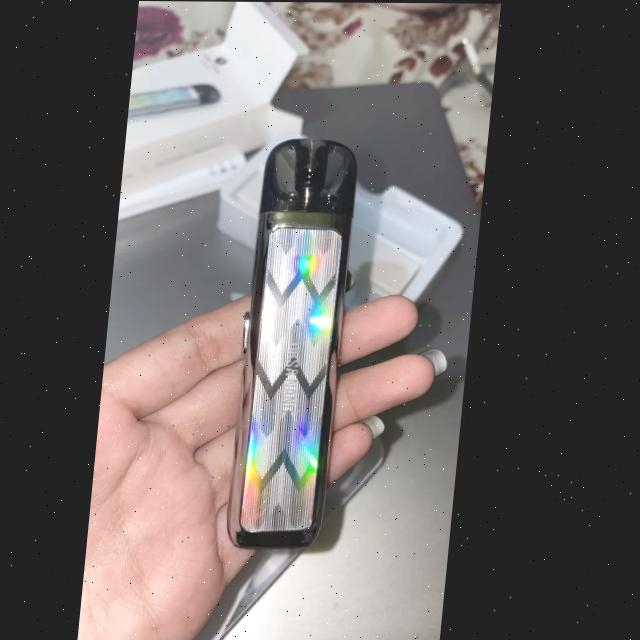vape: (235, 136, 365, 546)
